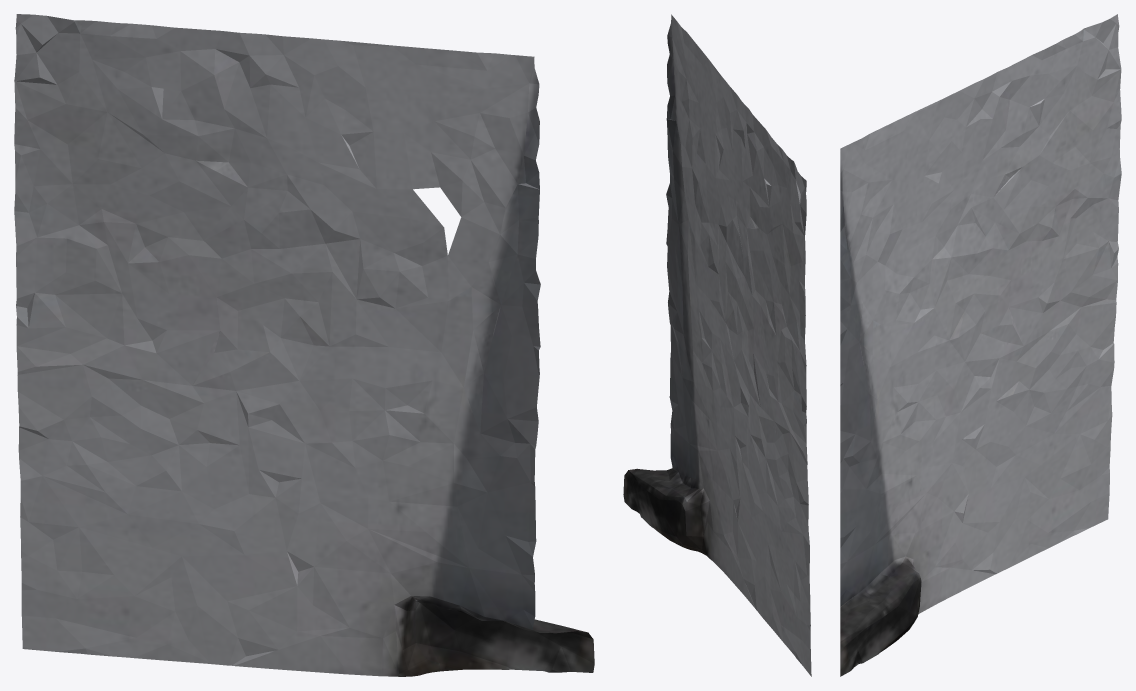
The picture shows the model from 3 angles, left to right: view 1: azimuth 30°, elevation 25°; view 2: azimuth 150°, elevation 25°; view 3: azimuth 270°, elevation 25°; orthographic projection. The views are drawn at different scales.
Bounding box in the file's own units: 0.5624 × 0.8374 × 0.4228.
2 materials, 2 textured.
